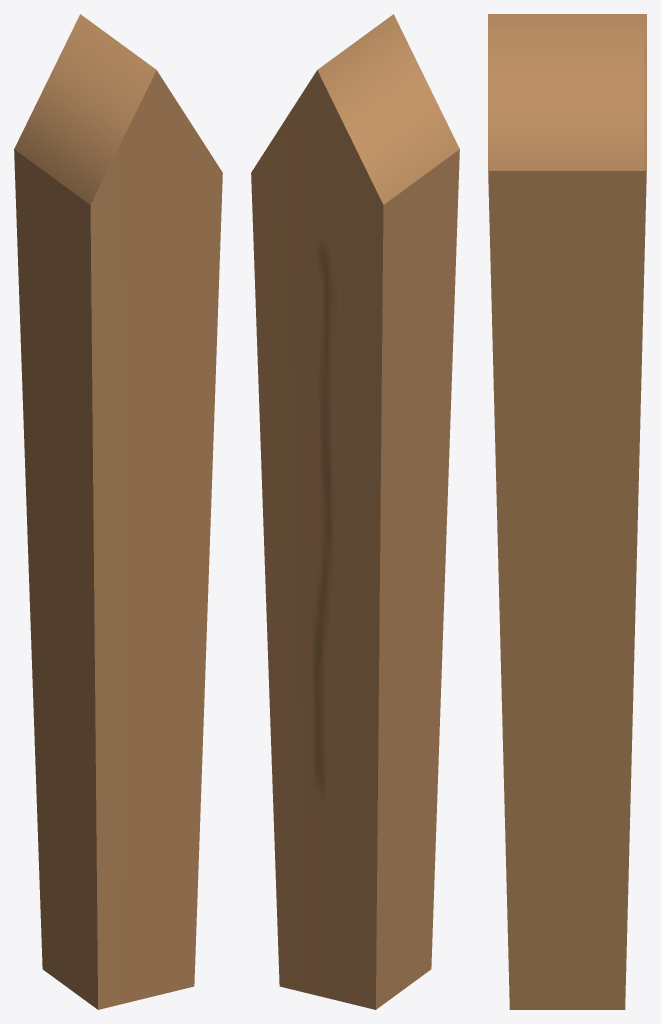
The model's file is FBX_VallaTile02.fbx.
3 views of the same model, side by side, from view 1: azimuth 30°, elevation 25°; view 2: azimuth 150°, elevation 25°; view 3: azimuth 270°, elevation 25° (orthographic). The views are drawn at different scales.
Visible parts, largest first — view 1: pCube49; view 2: pCube49; view 3: pCube49.
Boxes of the visible parts, x1,y1,x2,y2 form: pCube49: (14,14,222,1009); pCube49: (251,14,459,1009); pCube49: (488,14,646,1009).
Bounding box in the file's own units: 7.15 × 48.3 × 7.15.
